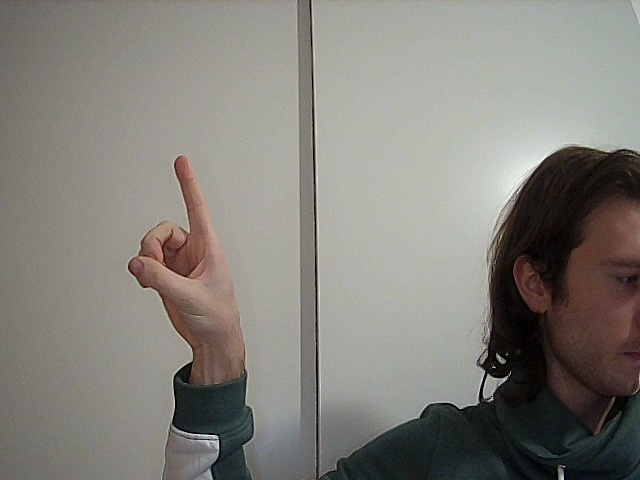d: (109, 153, 269, 369)
